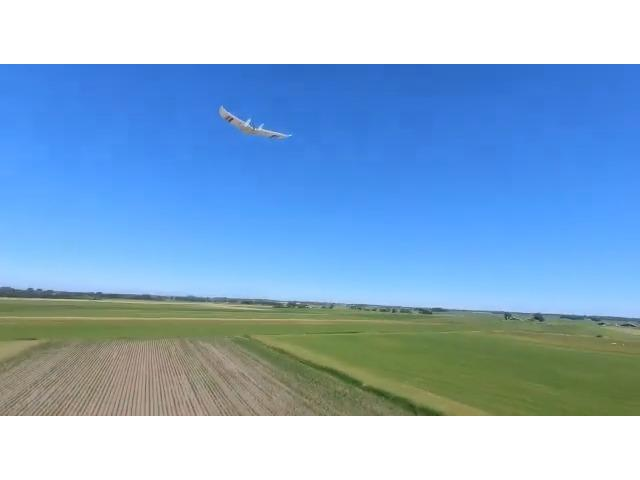Anti-Drone: (200, 95, 310, 157)
